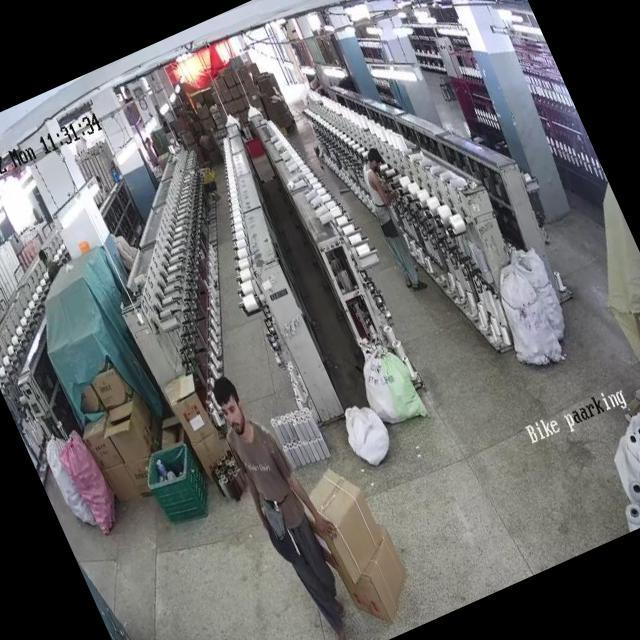person: (204, 370, 360, 632), (344, 137, 440, 301)
